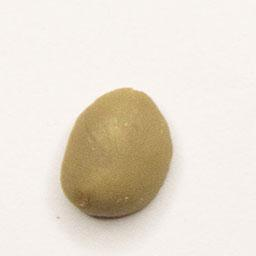premium: (57, 83, 177, 221)
